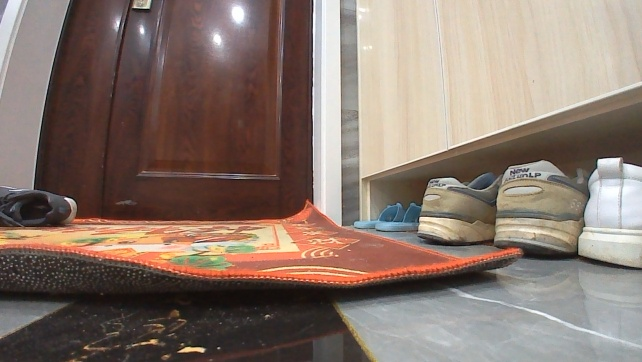blanket: (0, 198, 525, 297)
door_anno: (38, 0, 315, 220)
shoe: (415, 170, 503, 246), (0, 183, 77, 228)
slipper: (353, 200, 425, 233)
